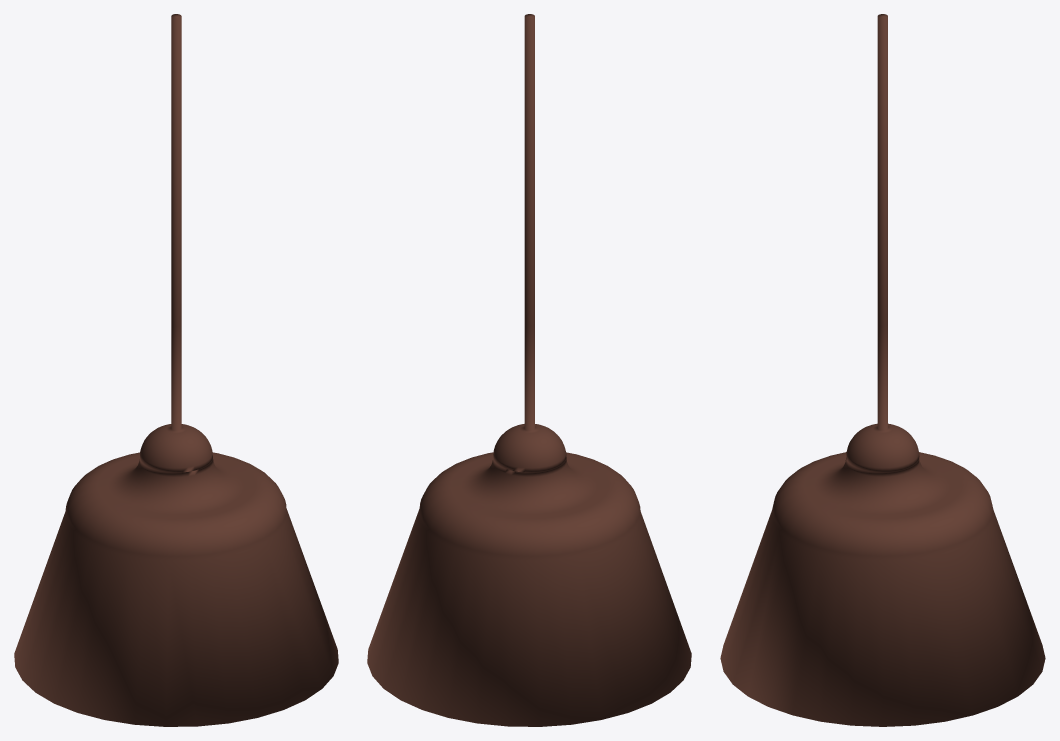
The model's file is Lamp.fbx.
3 renders of one model, left to right at view 1: azimuth 30°, elevation 25°; view 2: azimuth 150°, elevation 25°; view 3: azimuth 270°, elevation 25°, orthographic.
Visible parts, largest first — view 1: Lamp; view 2: Lamp; view 3: Lamp.
Boxes of the visible parts, x1,y1,x2,y2 form: Lamp: (14, 14, 338, 726); Lamp: (367, 14, 691, 726); Lamp: (720, 14, 1045, 726).
Bounding box in the file's own units: 293 × 638 × 293.
